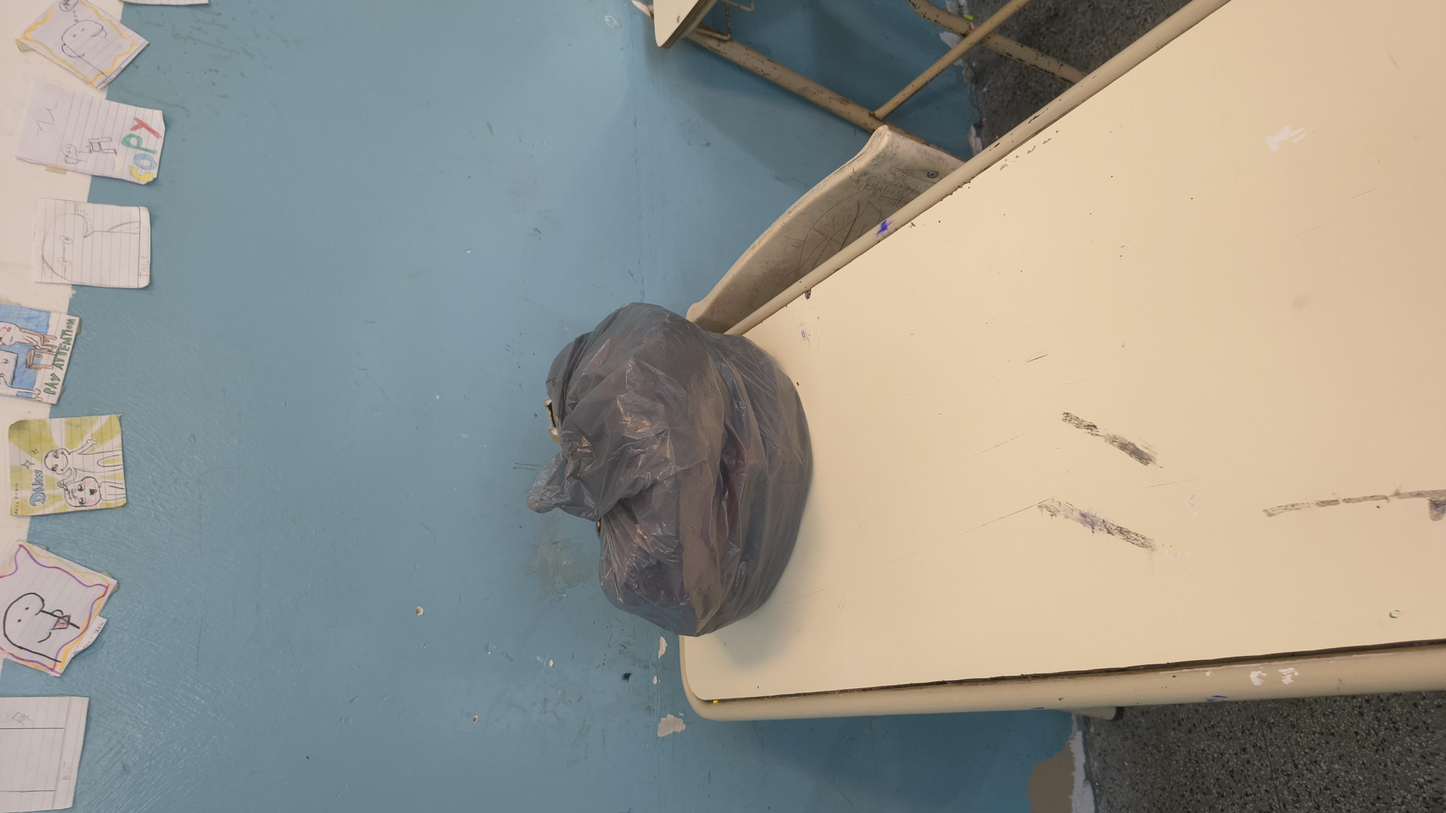Garbage: (264, 278, 985, 464)
